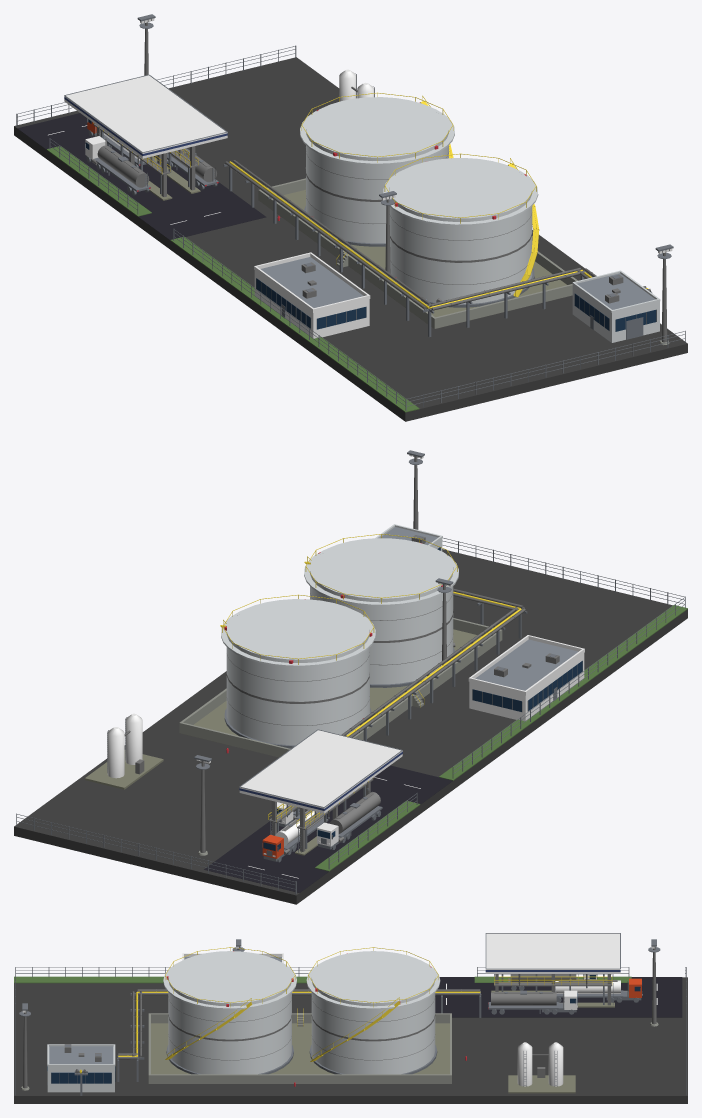
Rendered from top-prebuilt_close.fbx.
3 renders of one model, top to bottom at view 1: azimuth 30°, elevation 25°; view 2: azimuth 150°, elevation 25°; view 3: azimuth 270°, elevation 25°, orthographic. The views are drawn at different scales.
Visible parts, largest first — view 1: a1080_0_top-prebuilt_close; view 2: a1080_0_top-prebuilt_close; view 3: a1080_0_top-prebuilt_close.
Boxes of the visible parts, <box> form: a1080_0_top-prebuilt_close: <box>14,14,687,421</box>; a1080_0_top-prebuilt_close: <box>14,450,687,904</box>; a1080_0_top-prebuilt_close: <box>14,933,687,1103</box>.
Bounding box in the file's own units: 50 × 17.75 × 120.
